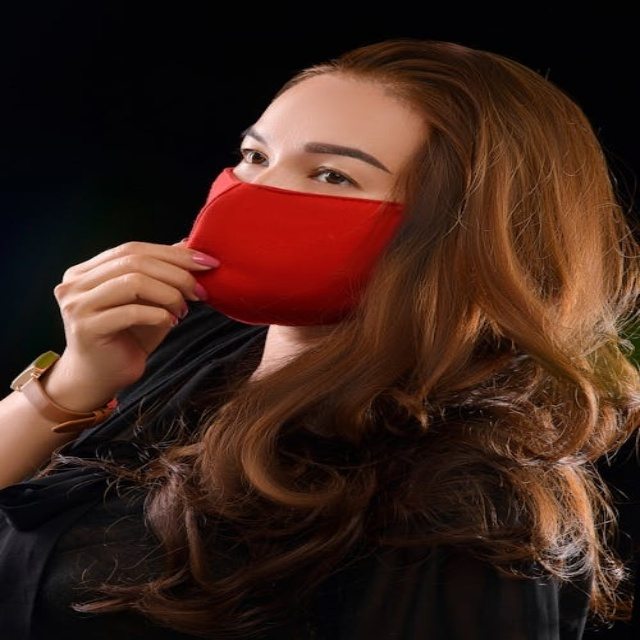Mascara: (179, 166, 408, 326)
Sin_gafas: (229, 123, 389, 192)
Sin_guantes: (47, 240, 217, 409)
